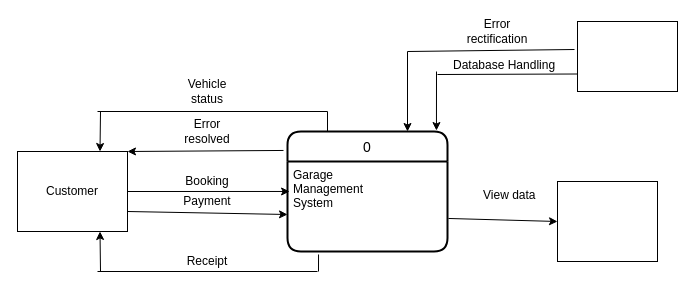
Image size: 695x297. Some labels were removed from this diagram. Here are the shapes that lost their labels. From the top down, the centre of each, then its label:
(x=627, y=56): System Admin
(x=607, y=221): Engineer
